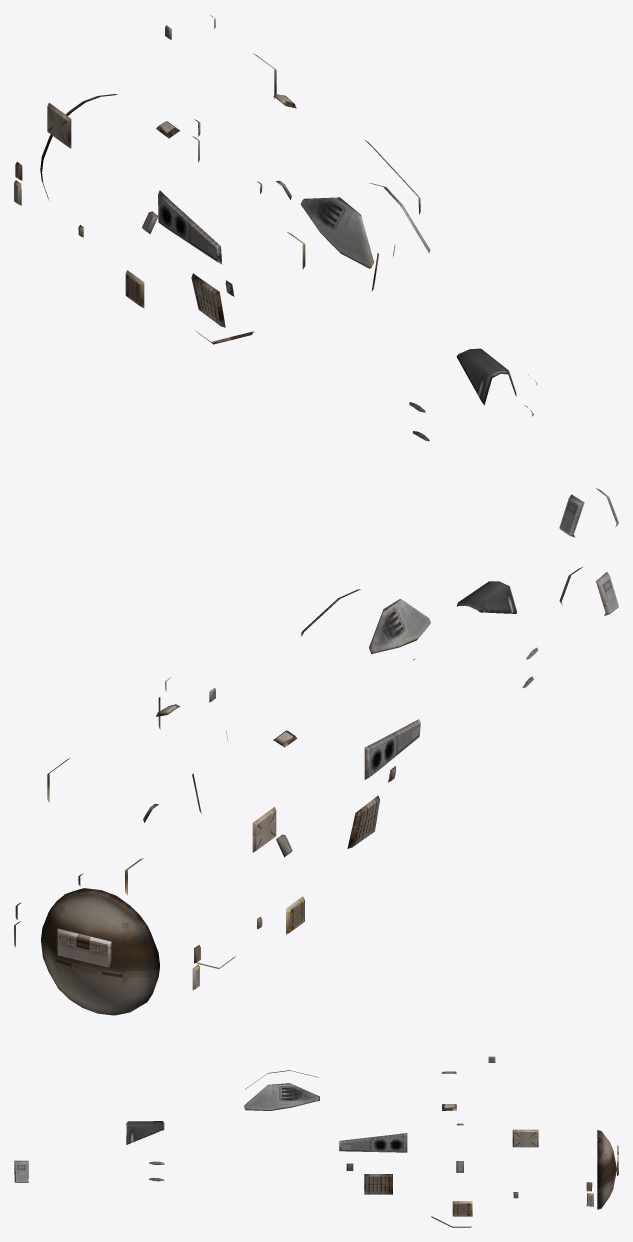
The model's file is ama_siege_frigate_01.glb.
3 views of the same model, one above another, from view 1: azimuth 30°, elevation 25°; view 2: azimuth 150°, elevation 25°; view 3: azimuth 270°, elevation 25° (orthographic). The views are drawn at different scales.
Parts seen in each view (by area): view 1: ama_siege_frigate_01_LOD0; view 2: ama_siege_frigate_01_LOD0; view 3: ama_siege_frigate_01_LOD0.
Boxes of the visible parts, <box> form: ama_siege_frigate_01_LOD0: <box>14,15,618,537</box>; ama_siege_frigate_01_LOD0: <box>14,567,618,1015</box>; ama_siege_frigate_01_LOD0: <box>14,1056,618,1227</box>.
Size of what is drawn, in the model's own units: 1.09 by 1.46 by 4.59.
1 material, 1 textured.
